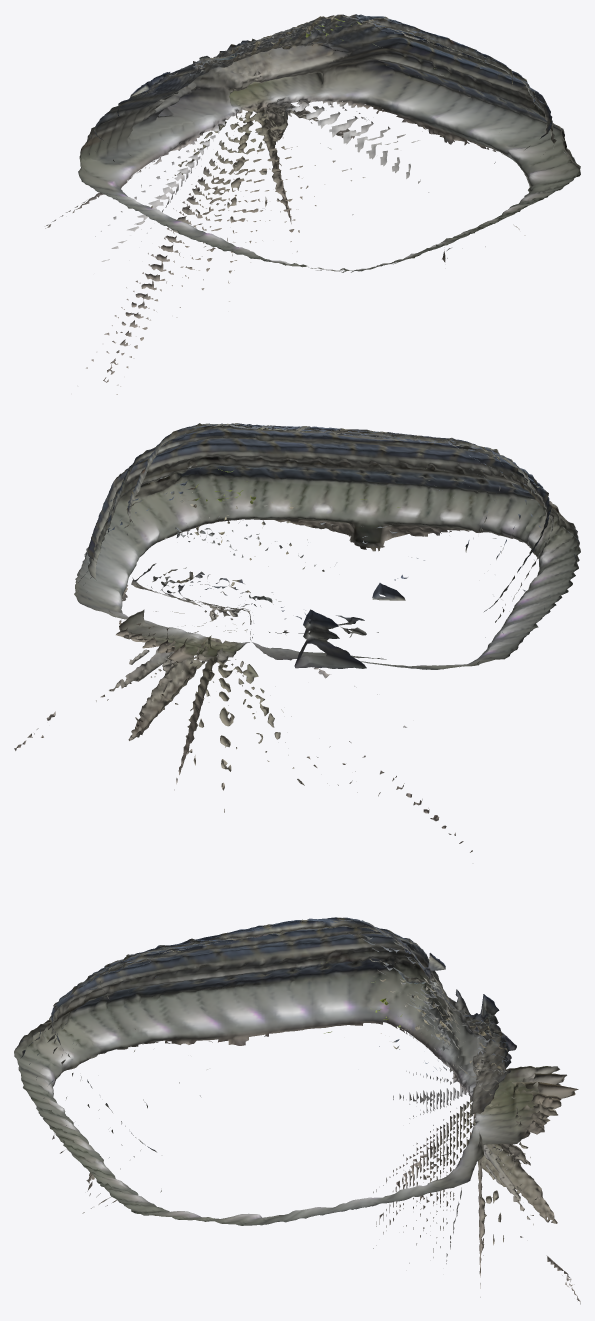
The model's file is collider.glb.
The picture shows the model from 3 angles, top to bottom: view 1: azimuth 30°, elevation 25°; view 2: azimuth 150°, elevation 25°; view 3: azimuth 270°, elevation 25°; orthographic projection. The views are drawn at different scales.
Visible parts, largest first — view 1: world; view 2: world; view 3: world.
Part boxes in pixels (x1=…): world: x1=45, y1=14, x2=580, y2=394; world: x1=14, y1=423, x2=580, y2=852; world: x1=14, y1=917, x2=580, y2=1304.
Size of the model in its own units: 34.17 by 22.31 by 31.37.
